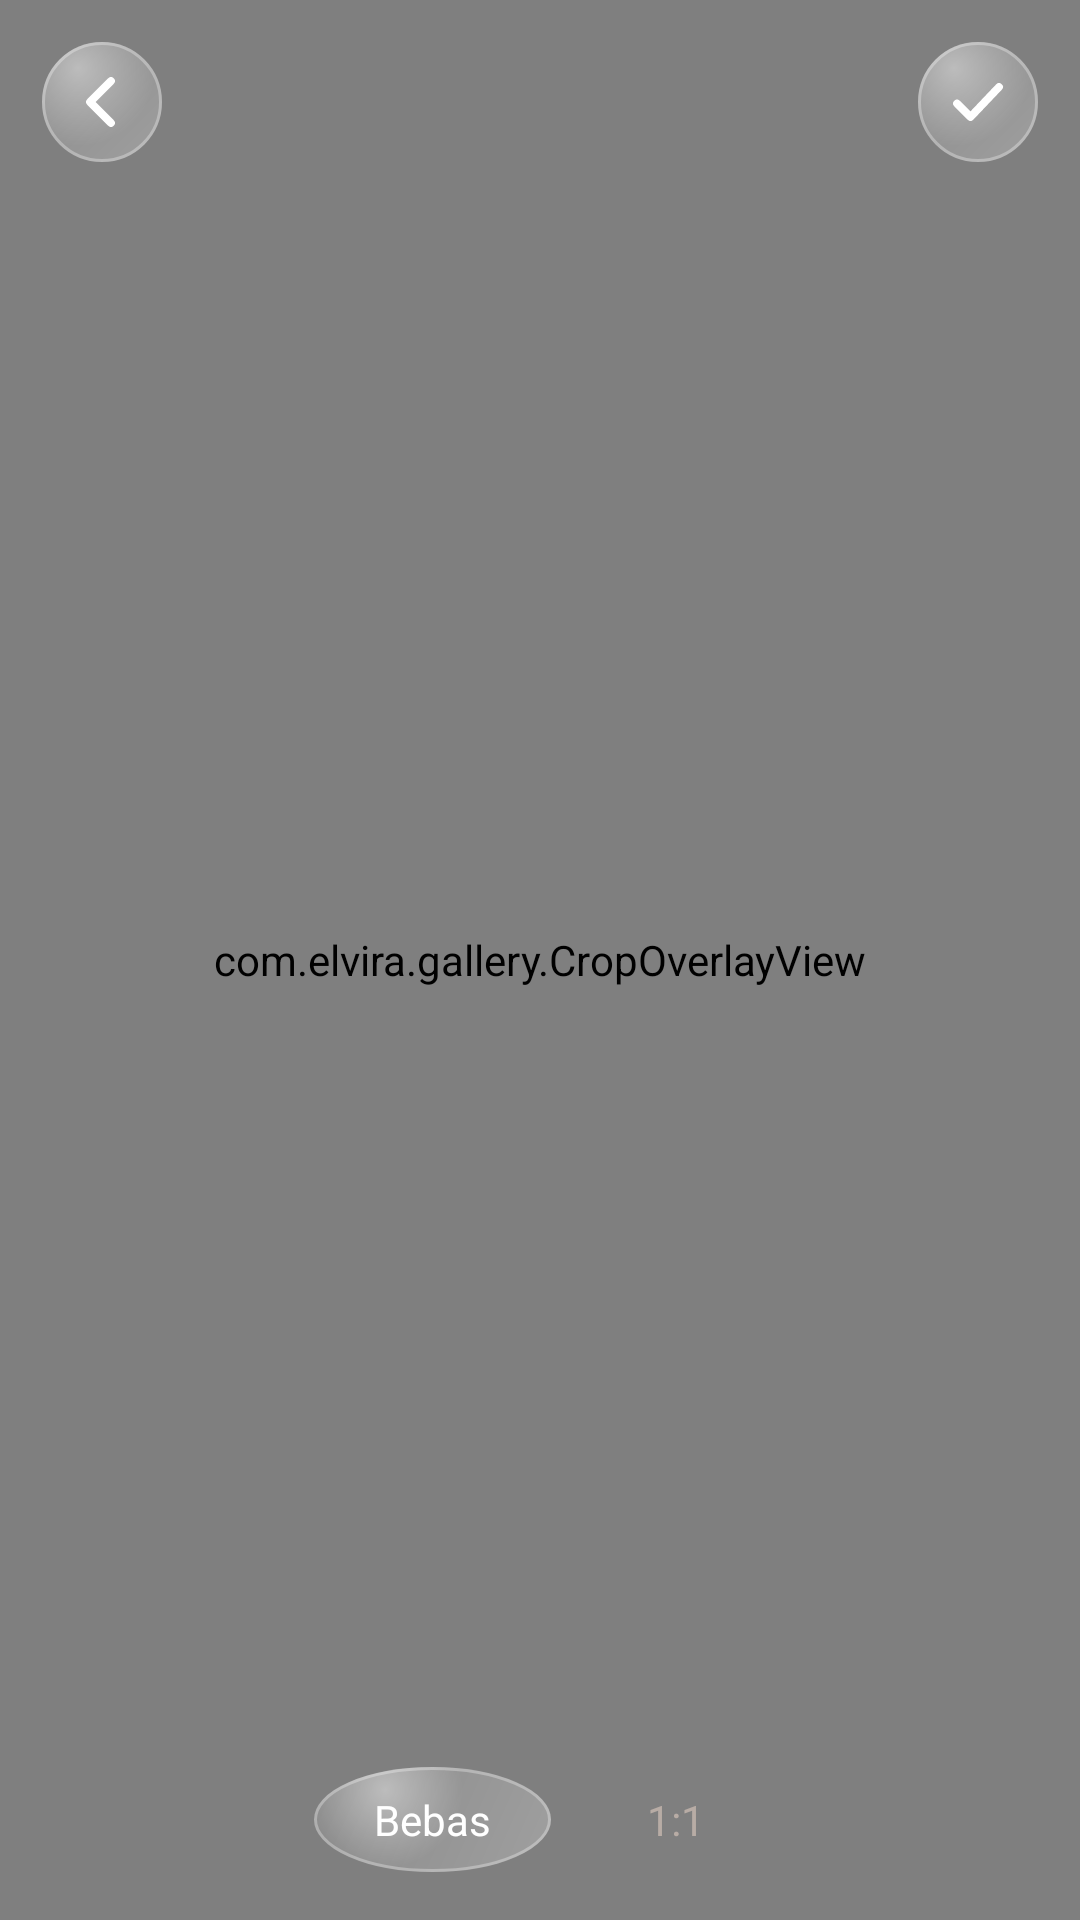

Named icons in this screenshot (1080 × 1920) and their bounding boxes, bbox(x1, y1, x2, y2):
Batal potong foto: bbox(42, 42, 162, 162)
Terapkan potongan: bbox(918, 42, 1038, 162)
